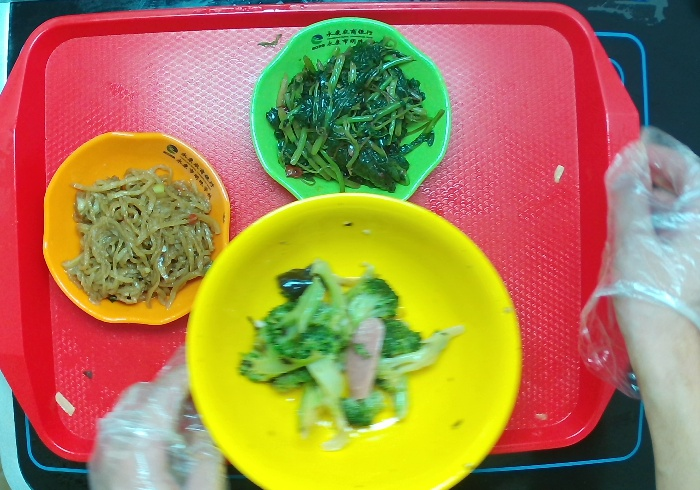YKMZ-Huang_Se_Tang_Wan: (184, 189, 527, 490)
YKMZ-Ju_Se_Ao_Bian_Wan: (38, 128, 231, 328)
YKMZ-Lv_Se_Ao_Bian_Wan: (247, 17, 449, 198)
